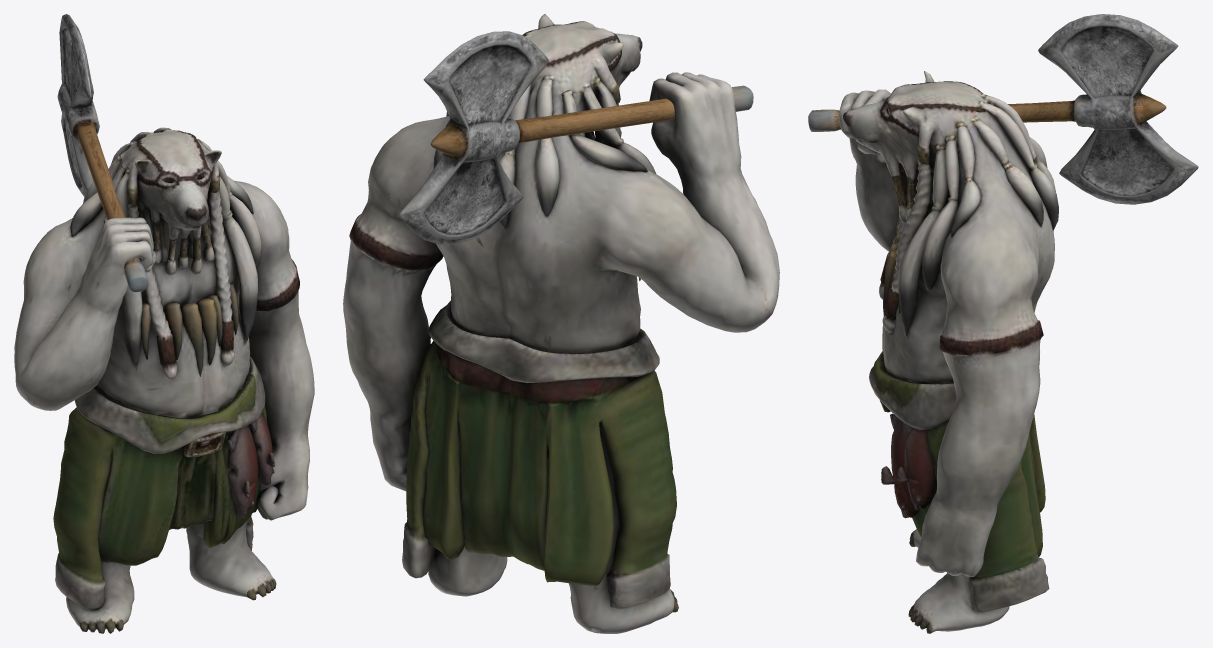
Rendered from MZ4250 - Werebear_GreatAxe.glb.
3 renders of one model, left to right at view 1: azimuth 30°, elevation 25°; view 2: azimuth 150°, elevation 25°; view 3: azimuth 270°, elevation 25°, orthographic. The views are drawn at different scales.
Parts seen in each view (by area): view 1: Great Axe.002; view 2: Great Axe.002; view 3: Great Axe.002.
Part boxes in pixels (<box>): Great Axe.002: <box>14,14,314,633</box>; Great Axe.002: <box>343,14,779,633</box>; Great Axe.002: <box>808,14,1198,633</box>.
Bounding box in the file's own units: 86.98 × 138 × 86.8.
Materials: 2 (2 with a texture image).
